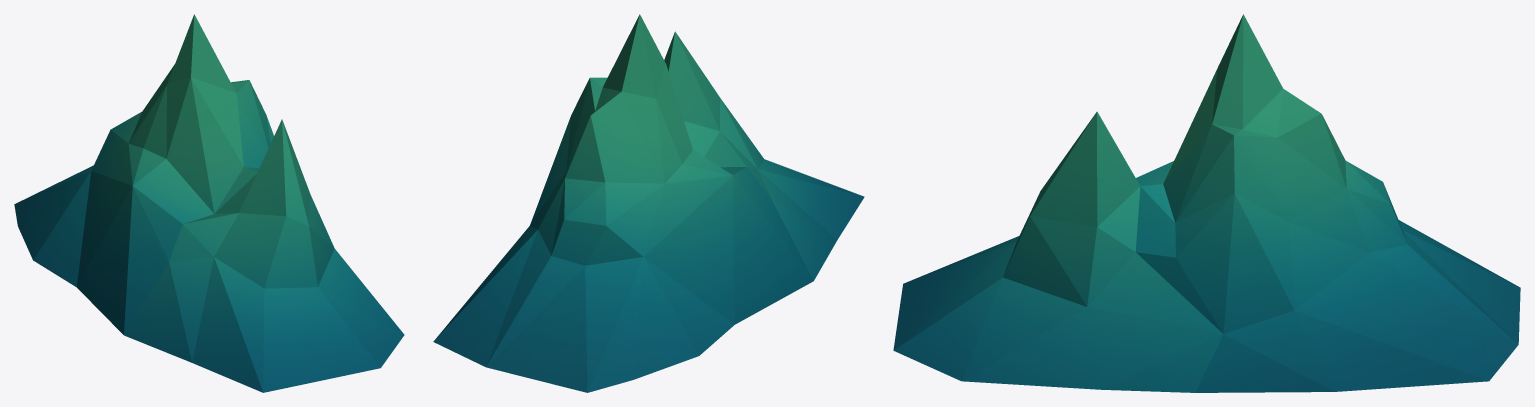
File: Mountain.fbx
3 views of the same model, side by side, from view 1: azimuth 30°, elevation 25°; view 2: azimuth 150°, elevation 25°; view 3: azimuth 270°, elevation 25° (orthographic). The views are drawn at different scales.
Parts seen in each view (by area): view 1: Icosphere.002; view 2: Icosphere.002; view 3: Icosphere.002.
Boxes of the visible parts, box(x1,y1,x2,y2) form: Icosphere.002: box(14, 14, 404, 392); Icosphere.002: box(433, 14, 864, 392); Icosphere.002: box(893, 14, 1520, 392).
Bounding box in the file's own units: 405 × 434 × 790.
